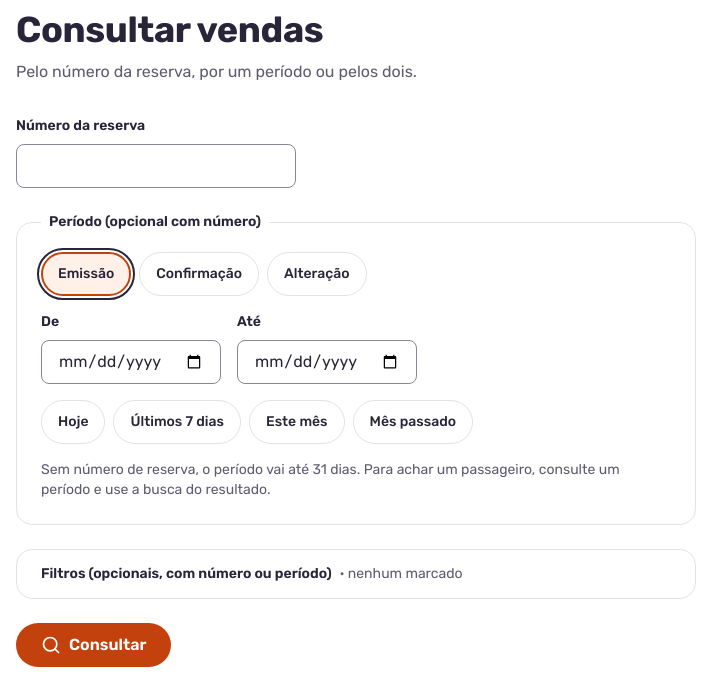
Test: o tipo de data é um grupo de opções: as setas trocam a marcada
Expected: the element named "Tipo de data" is shown, [41,252,366,296]
Press Arrowright
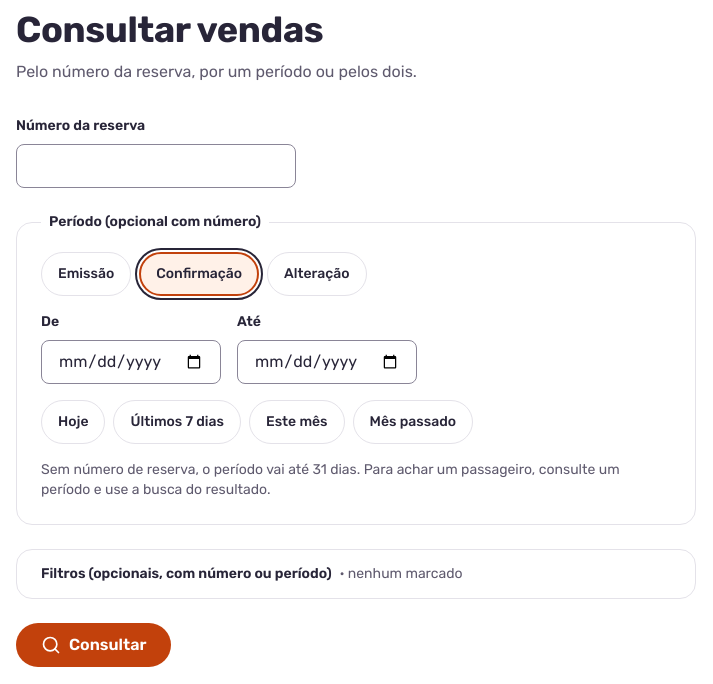
Expected: the radio button labelled "Confirmação" is checked, [139,252,259,296]
Press Arrowright Arrowright
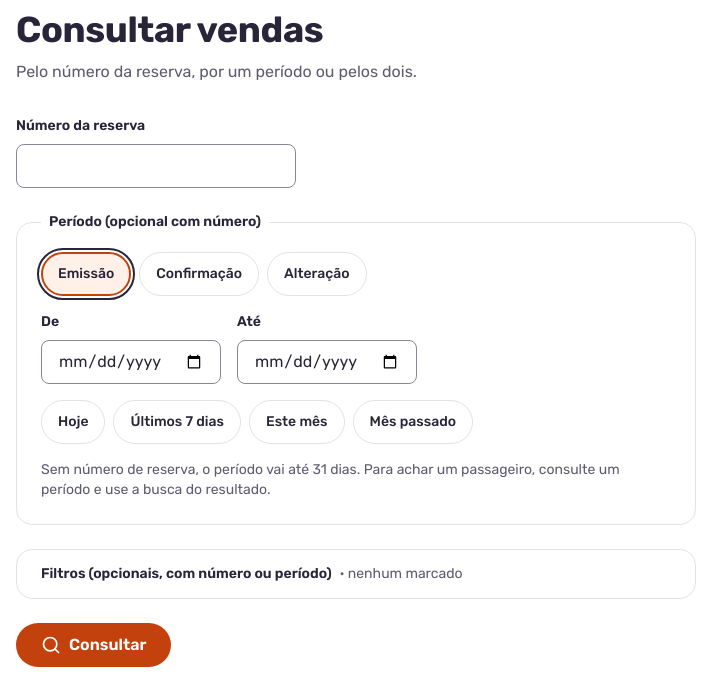
Expected: the radio button labelled "Emissão" is checked, [41,252,131,296]
Press Arrowleft
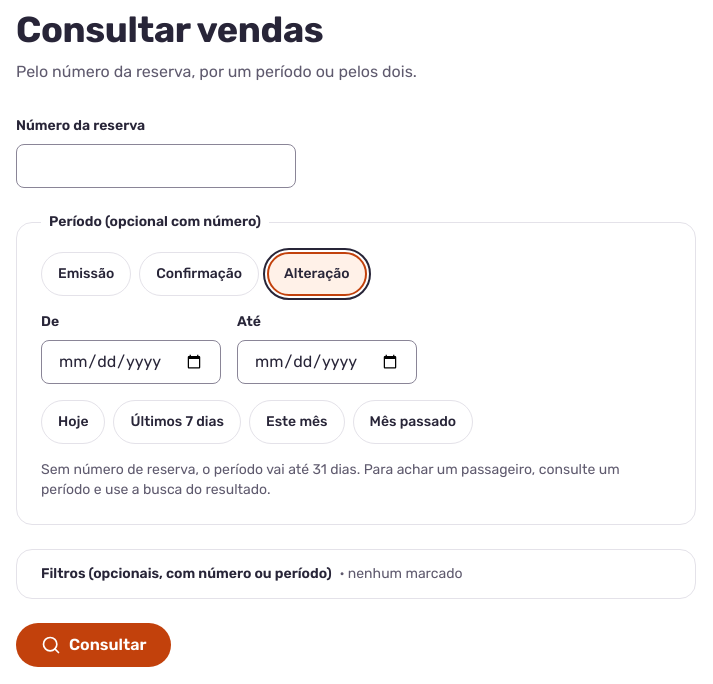
Expected: the radio button labelled "Alteração" is checked, [267,252,366,296]
Click the radio button labelled "Confirmação".
click(199, 274)  # box [139,252,259,296]
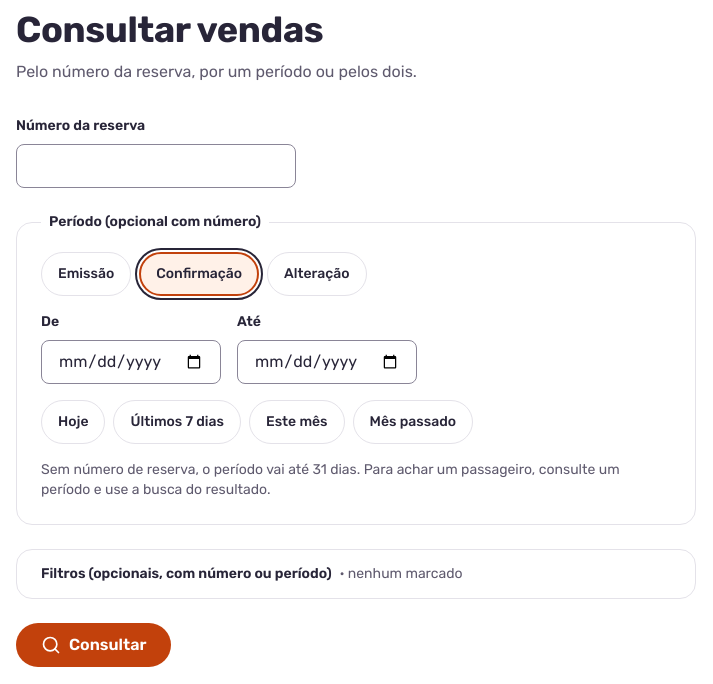
Expected: the radio button labelled "Emissão" is not checked, [41,252,131,296]
